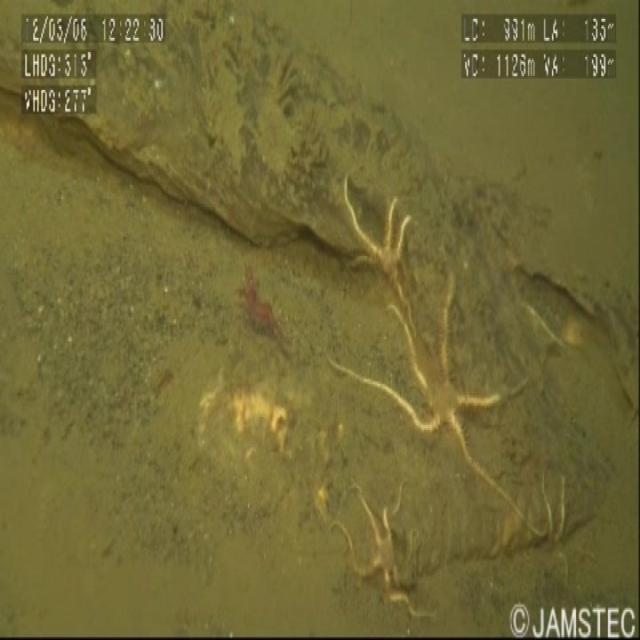Natual-Debris: (326, 167, 581, 609), (191, 302, 297, 486)
Rope: (1, 27, 640, 640)
